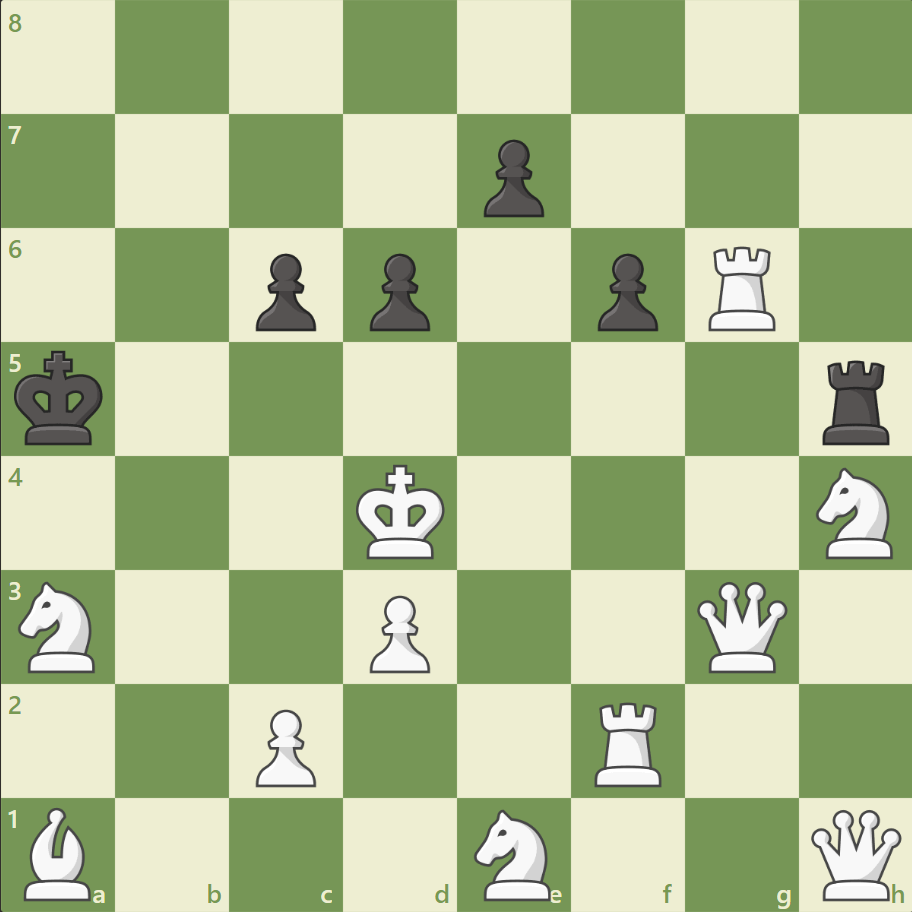B: (17, 801, 101, 904)
K: (351, 458, 451, 566)
N: (806, 461, 903, 564), (11, 575, 108, 677), (465, 802, 562, 904)
P: (247, 700, 322, 791), (361, 586, 435, 677)
Q: (691, 576, 790, 676), (805, 804, 904, 903)
R: (700, 239, 783, 336), (587, 693, 670, 790)
k: (11, 344, 111, 452)
p: (474, 132, 549, 223), (247, 246, 322, 337), (361, 246, 435, 337), (588, 246, 662, 337)
r: (814, 352, 897, 449)
